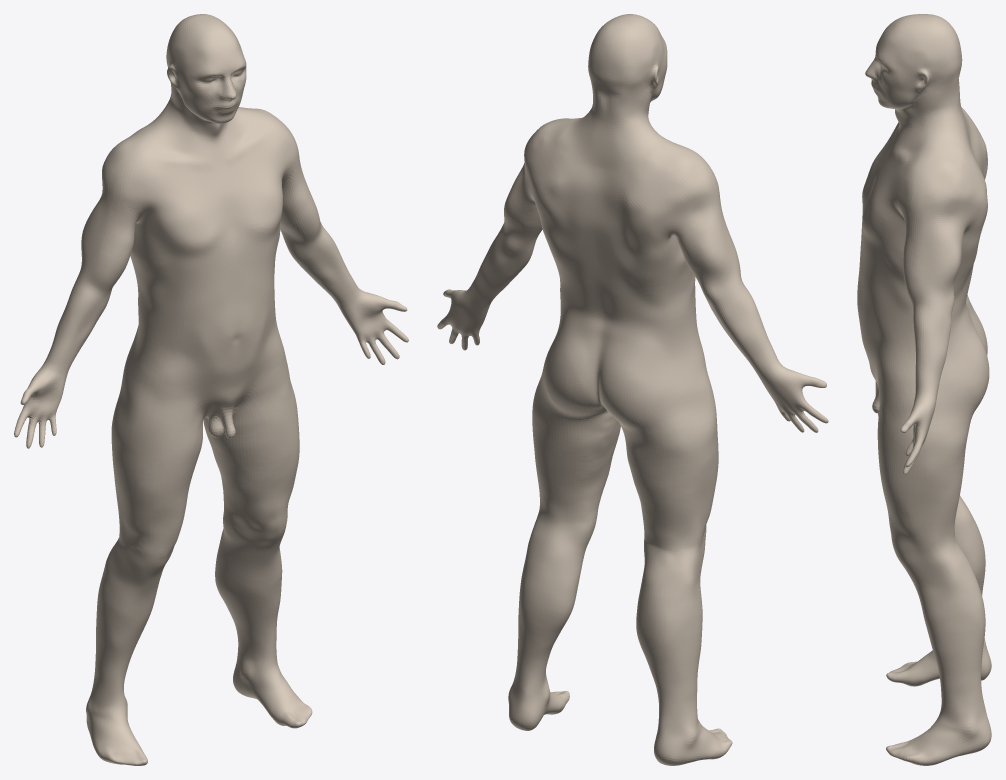
Rendered from skin.glb.
3 views of the same model, side by side, from view 1: azimuth 30°, elevation 25°; view 2: azimuth 150°, elevation 25°; view 3: azimuth 270°, elevation 25° (orthographic). The views are drawn at different scales.
Visible parts, largest first — view 1: skin; view 2: skin; view 3: skin.
Boxes of the visible parts, left/top/right/bottom form: skin: left=14, top=14, right=408, bottom=765; skin: left=437, top=14, right=828, bottom=765; skin: left=857, top=14, right=991, bottom=765.
Size of the model in its own units: 1.05 by 1.83 by 0.3162.
